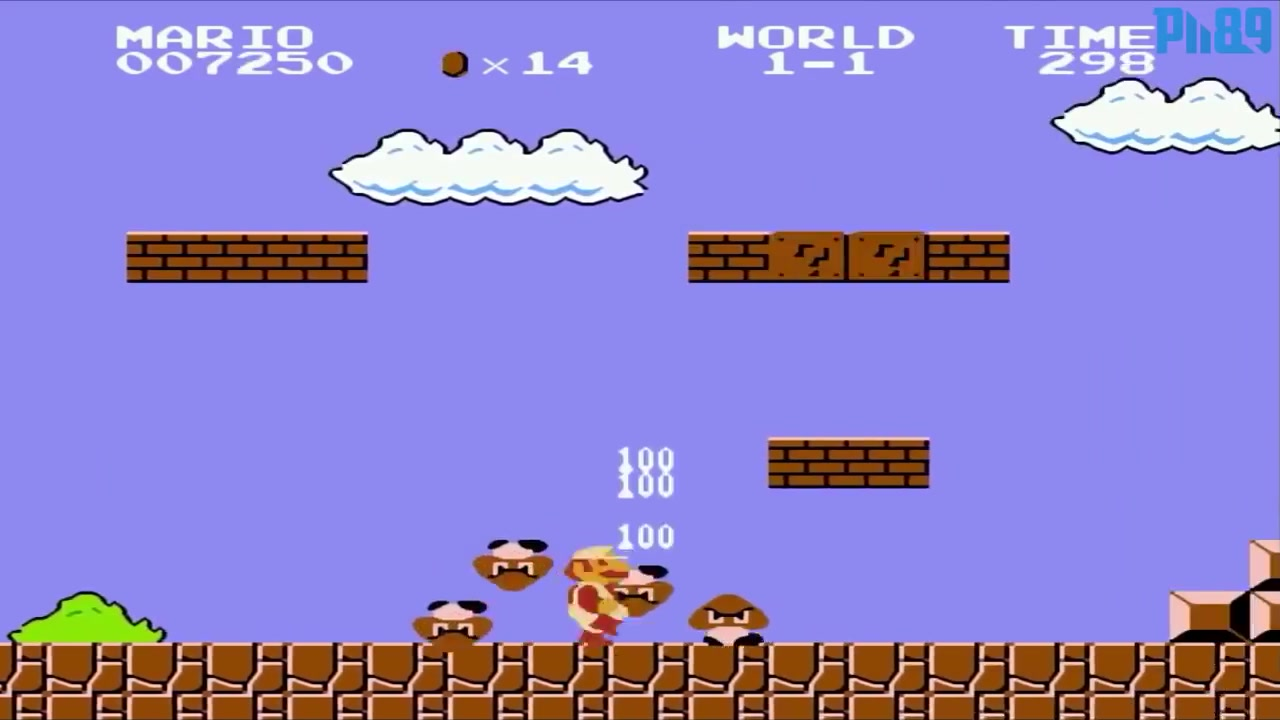mario: (555, 538, 636, 643)
